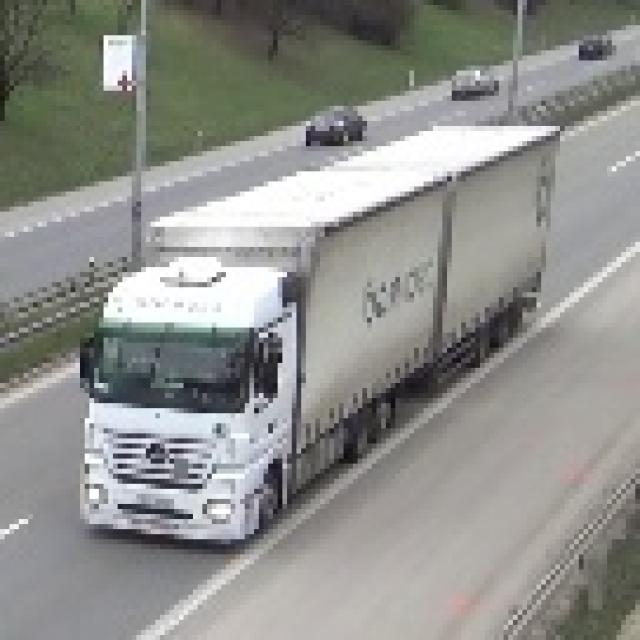SED: (579, 35, 615, 60)
TRUCK: (71, 120, 548, 542)
